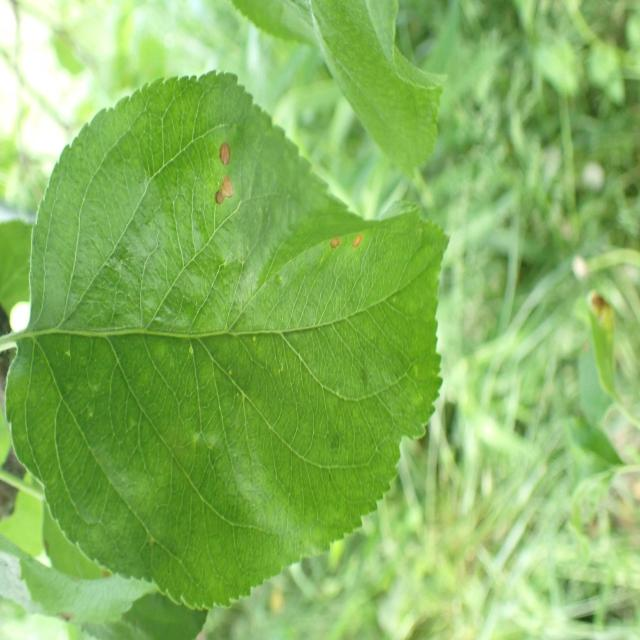Black Rot: (310, 212, 383, 260), (208, 128, 239, 234)
